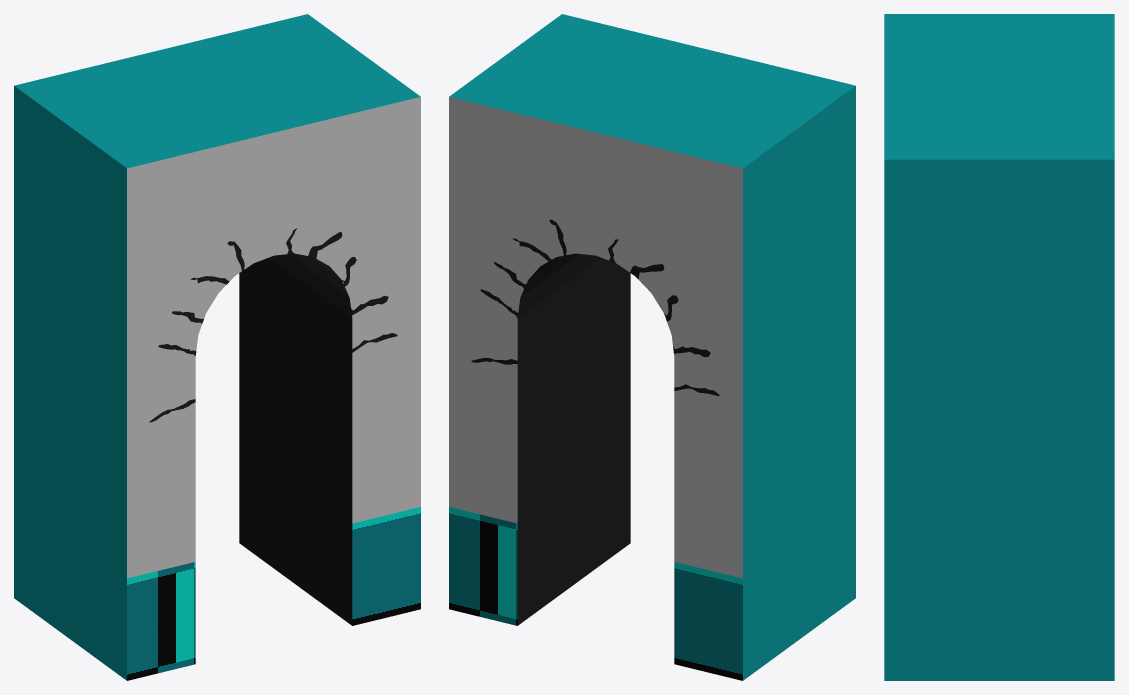
File: Dungeon Bombed Wall.fbx
3 renders of one model, left to right at view 1: azimuth 30°, elevation 25°; view 2: azimuth 150°, elevation 25°; view 3: azimuth 270°, elevation 25°, orthographic.
Parts seen in each view (by area): view 1: 3DGeom~5, 3DGeom~4, 3DGeom~1, 3DGeom~3, 3DGeom~2; view 2: 3DGeom~5, 3DGeom~4, 3DGeom~1, 3DGeom~3, 3DGeom~2; view 3: 3DGeom~5.
Boxes of the visible parts, x1,y1,x2,y2 form: 3DGeom~5: (14, 14, 420, 680); 3DGeom~4: (127, 97, 420, 393); 3DGeom~1: (149, 228, 397, 625); 3DGeom~3: (127, 322, 420, 578); 3DGeom~2: (127, 507, 420, 680); 3DGeom~5: (449, 14, 855, 680); 3DGeom~4: (449, 97, 742, 393); 3DGeom~1: (471, 219, 719, 625); 3DGeom~3: (449, 322, 742, 578); 3DGeom~2: (449, 507, 742, 680); 3DGeom~5: (884, 14, 1114, 680).
Bounding box in the file's own units: 1.5 × 1 × 2.5.
